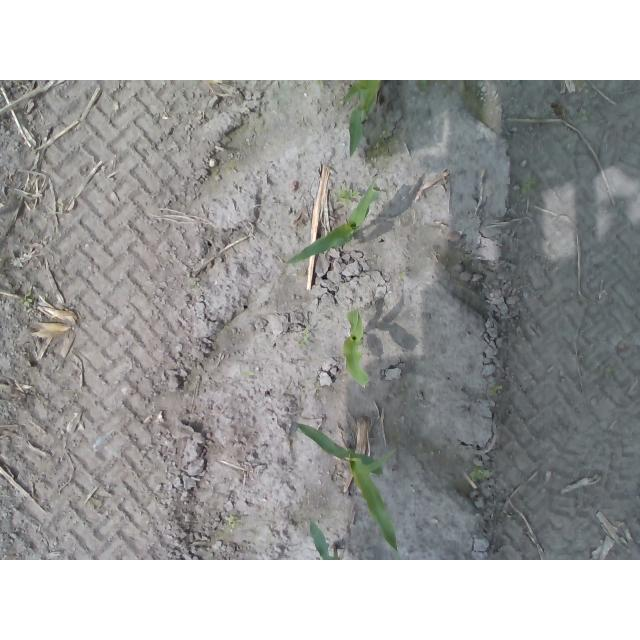Maize: (293, 423, 403, 554), (286, 184, 378, 264), (342, 80, 383, 157), (339, 312, 369, 387), (308, 518, 336, 560)
Weeds: (469, 468, 492, 481), (519, 175, 534, 194), (339, 189, 358, 203), (227, 514, 240, 530), (298, 334, 311, 347), (20, 297, 32, 308)
